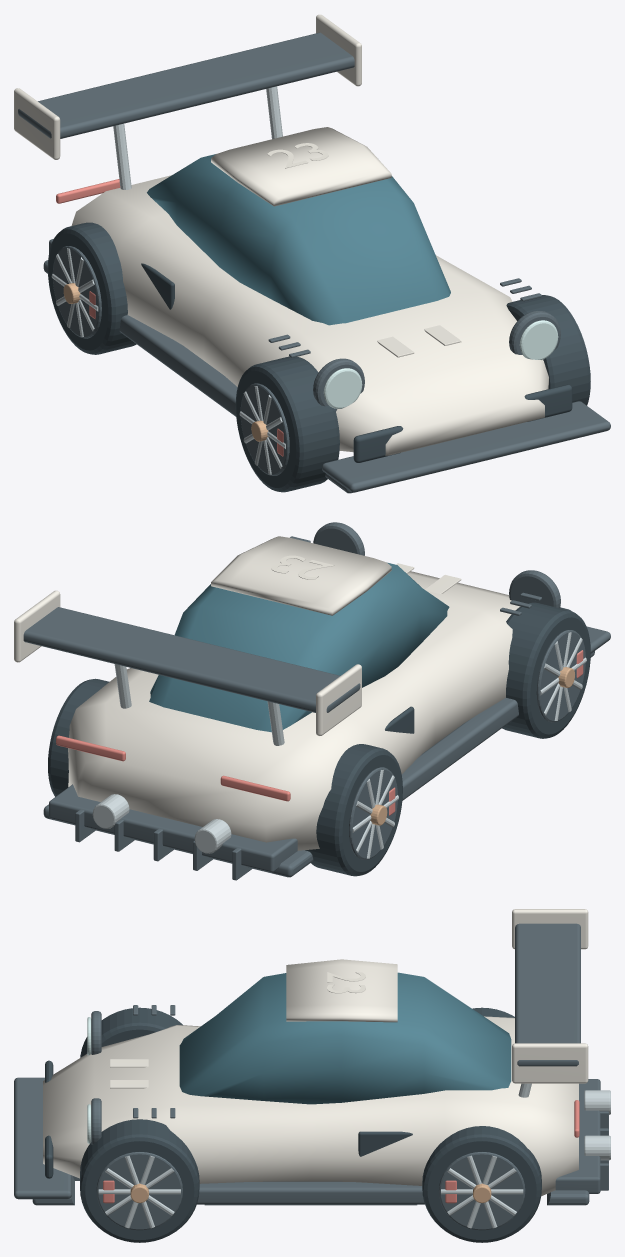
File: Pro_VoltDozer.fbx
3 renders of one model, top to bottom at view 1: azimuth 30°, elevation 25°; view 2: azimuth 150°, elevation 25°; view 3: azimuth 270°, elevation 25°, orthographic. The views are drawn at different scales.
Parts seen in each view (by area): view 1: Sculpted GT coachwork.001, Panoramic glazing.001, Carbon rear wing.001, Painted roof.001, Front splitter.001, Wheel_FL.001, Wheel_RL.001, Wheel_FR.001, Side skirt.002, Brake rotor.004, Brake rotor.005, Wing endplate.002 (+10 smaller); view 2: Sculpted GT coachwork.001, Panoramic glazing.001, Carbon rear wing.001, Painted roof.001, Wheel_FL.001, Wheel_RL.001, Diffuser.001, Side skirt.002, Brake rotor.005, Brake rotor.004, Wheel_RR.001, Wing endplate.002 (+12 smaller); view 3: Sculpted GT coachwork.001, Panoramic glazing.001, Carbon rear wing.001, Wheel_FR.001, Painted roof.001, Wheel_RR.001, Side skirt.003, Front splitter.001, Brake rotor.007, Brake rotor.006, Wing endplate.003, Diffuser.001 (+8 smaller).
Boxes of the visible parts, x1=… form: Sculpted GT coachwork.001: x1=71, y1=175, x2=548, y2=455; Panoramic glazing.001: x1=147, y1=154, x2=450, y2=325; Carbon rear wing.001: x1=18, y1=32, x2=354, y2=138; Painted roof.001: x1=211, y1=127, x2=391, y2=206; Front splitter.001: x1=322, y1=401, x2=610, y2=492; Wheel_FL.001: x1=235, y1=356, x2=339, y2=492; Wheel_RL.001: x1=48, y1=222, x2=136, y2=354; Wheel_FR.001: x1=506, y1=295, x2=590, y2=405; Side skirt.002: x1=119, y1=315, x2=237, y2=416; Brake rotor.004: x1=52, y1=246, x2=101, y2=338; Brake rotor.005: x1=240, y1=383, x2=289, y2=475; Wing endplate.002: x1=14, y1=88, x2=60, y2=159; Sculpted GT coachwork.001: x1=68, y1=571, x2=520, y2=850; Panoramic glazing.001: x1=149, y1=562, x2=449, y2=732; Carbon rear wing.001: x1=23, y1=607, x2=360, y2=712; Painted roof.001: x1=211, y1=536, x2=391, y2=615; Wheel_FL.001: x1=502, y1=602, x2=590, y2=738; Wheel_RL.001: x1=305, y1=744, x2=402, y2=876; Diffuser.001: x1=49, y1=784, x2=297, y2=872; Side skirt.002: x1=402, y1=698, x2=518, y2=800; Brake rotor.005: x1=536, y1=630, x2=585, y2=722; Brake rotor.004: x1=349, y1=767, x2=397, y2=859; Wheel_RR.001: x1=48, y1=678, x2=109, y2=796; Wing endplate.002: x1=316, y1=664, x2=361, y2=735; Sculpted GT coachwork.001: x1=43, y1=1016, x2=578, y2=1195; Panoramic glazing.001: x1=179, y1=972, x2=511, y2=1104; Carbon rear wing.001: x1=515, y1=923, x2=580, y2=1066; Wheel_FR.001: x1=80, y1=1119, x2=199, y2=1242; Painted roof.001: x1=286, y1=959, x2=397, y2=1022; Wheel_RR.001: x1=422, y1=1126, x2=541, y2=1242; Side skirt.003: x1=197, y1=1181, x2=424, y2=1204; Front splitter.001: x1=14, y1=1077, x2=71, y2=1199; Brake rotor.007: x1=96, y1=1152, x2=182, y2=1230; Brake rotor.006: x1=439, y1=1152, x2=525, y2=1230; Wing endplate.003: x1=512, y1=1043, x2=588, y2=1083; Diffuser.001: x1=547, y1=1079, x2=600, y2=1193.
Bounding box in the file's own units: 161 × 108 × 290.
